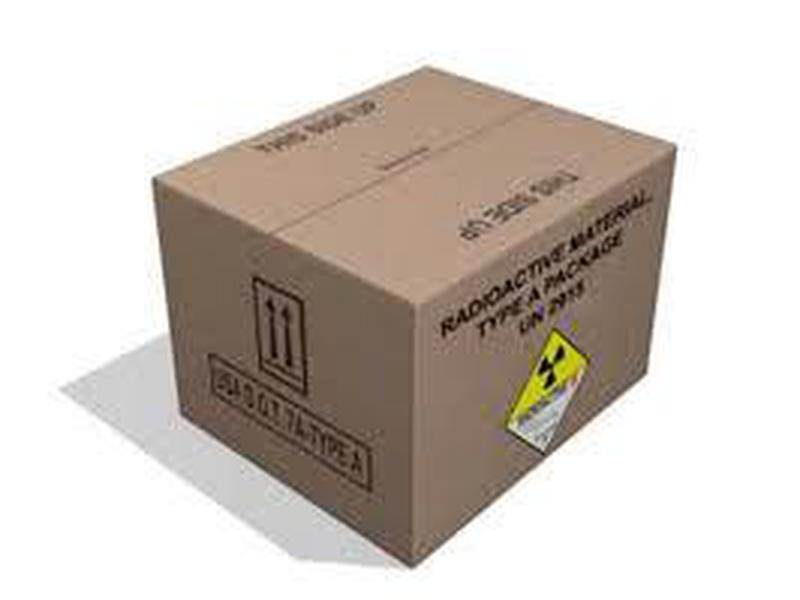package: (99, 53, 692, 576)
